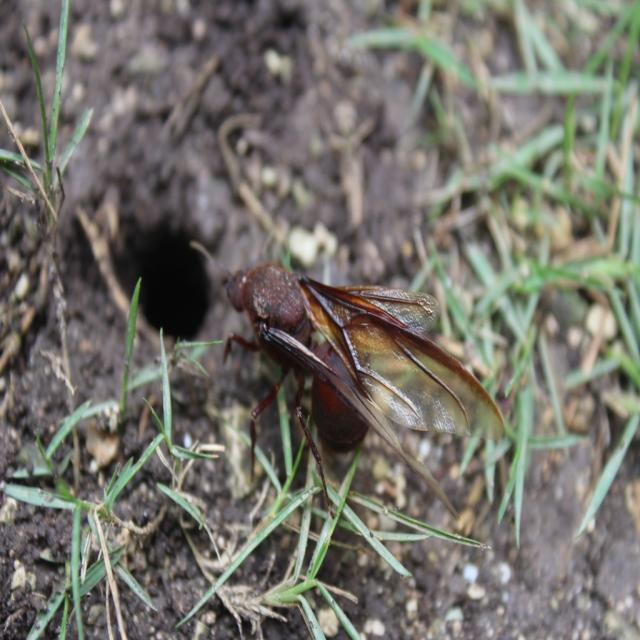Alive-Female-Alate: (190, 225, 504, 521)
